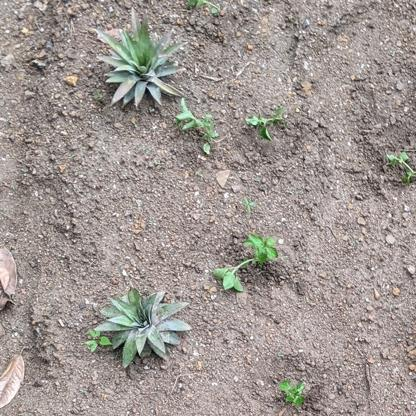pineapple: (92, 20, 190, 109), (91, 288, 194, 368)
weed: (211, 232, 281, 293), (173, 109, 224, 155), (244, 110, 290, 142), (380, 147, 416, 183), (276, 378, 312, 411)
